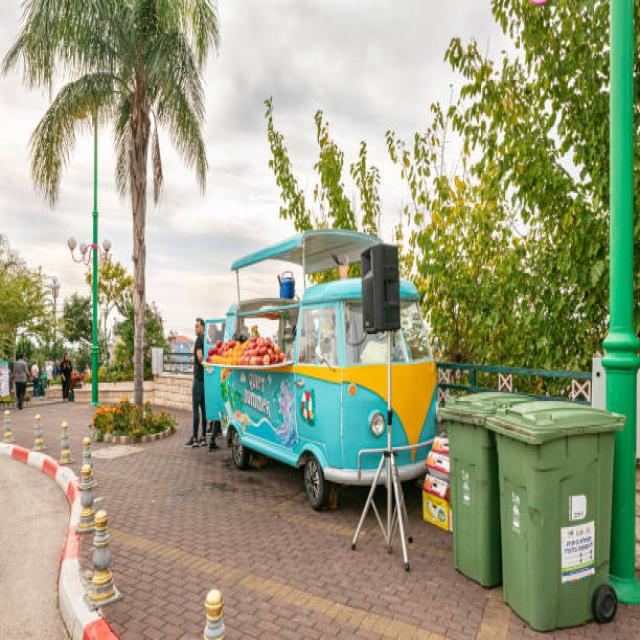Emperan: (191, 218, 460, 522)
